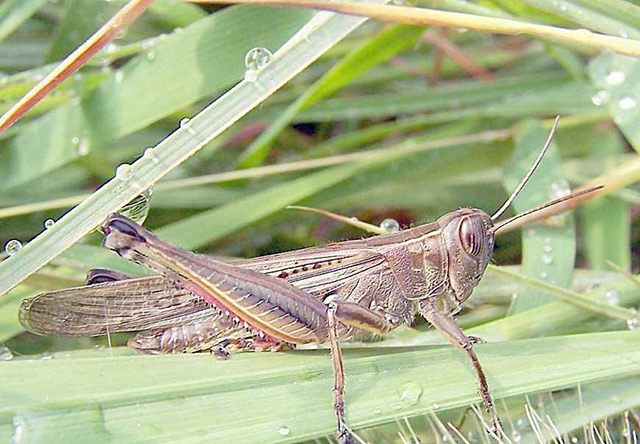huangchong: (26, 207, 522, 398)
